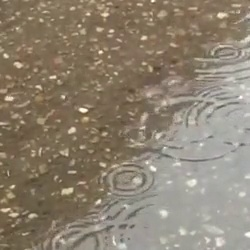drop: (143, 95, 245, 162), (101, 163, 155, 196), (73, 226, 133, 250), (50, 224, 103, 250), (206, 43, 245, 63), (121, 125, 152, 147), (2, 90, 31, 108), (162, 75, 187, 95), (145, 89, 166, 104)
